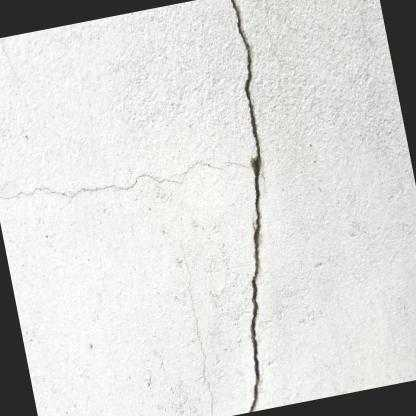crack: (229, 0, 260, 412)
